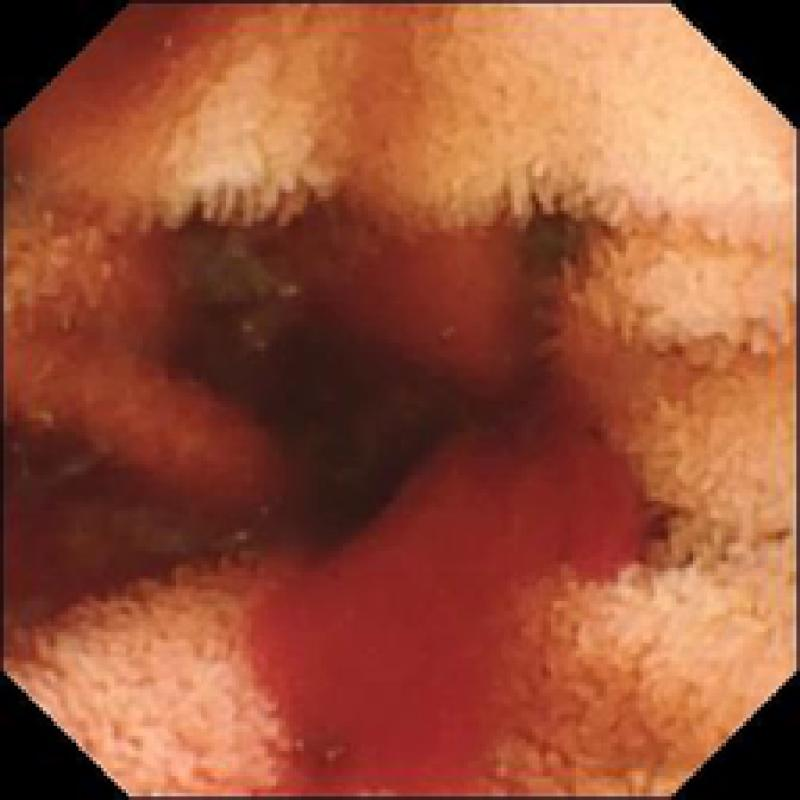bleeding: (232, 396, 668, 793)
